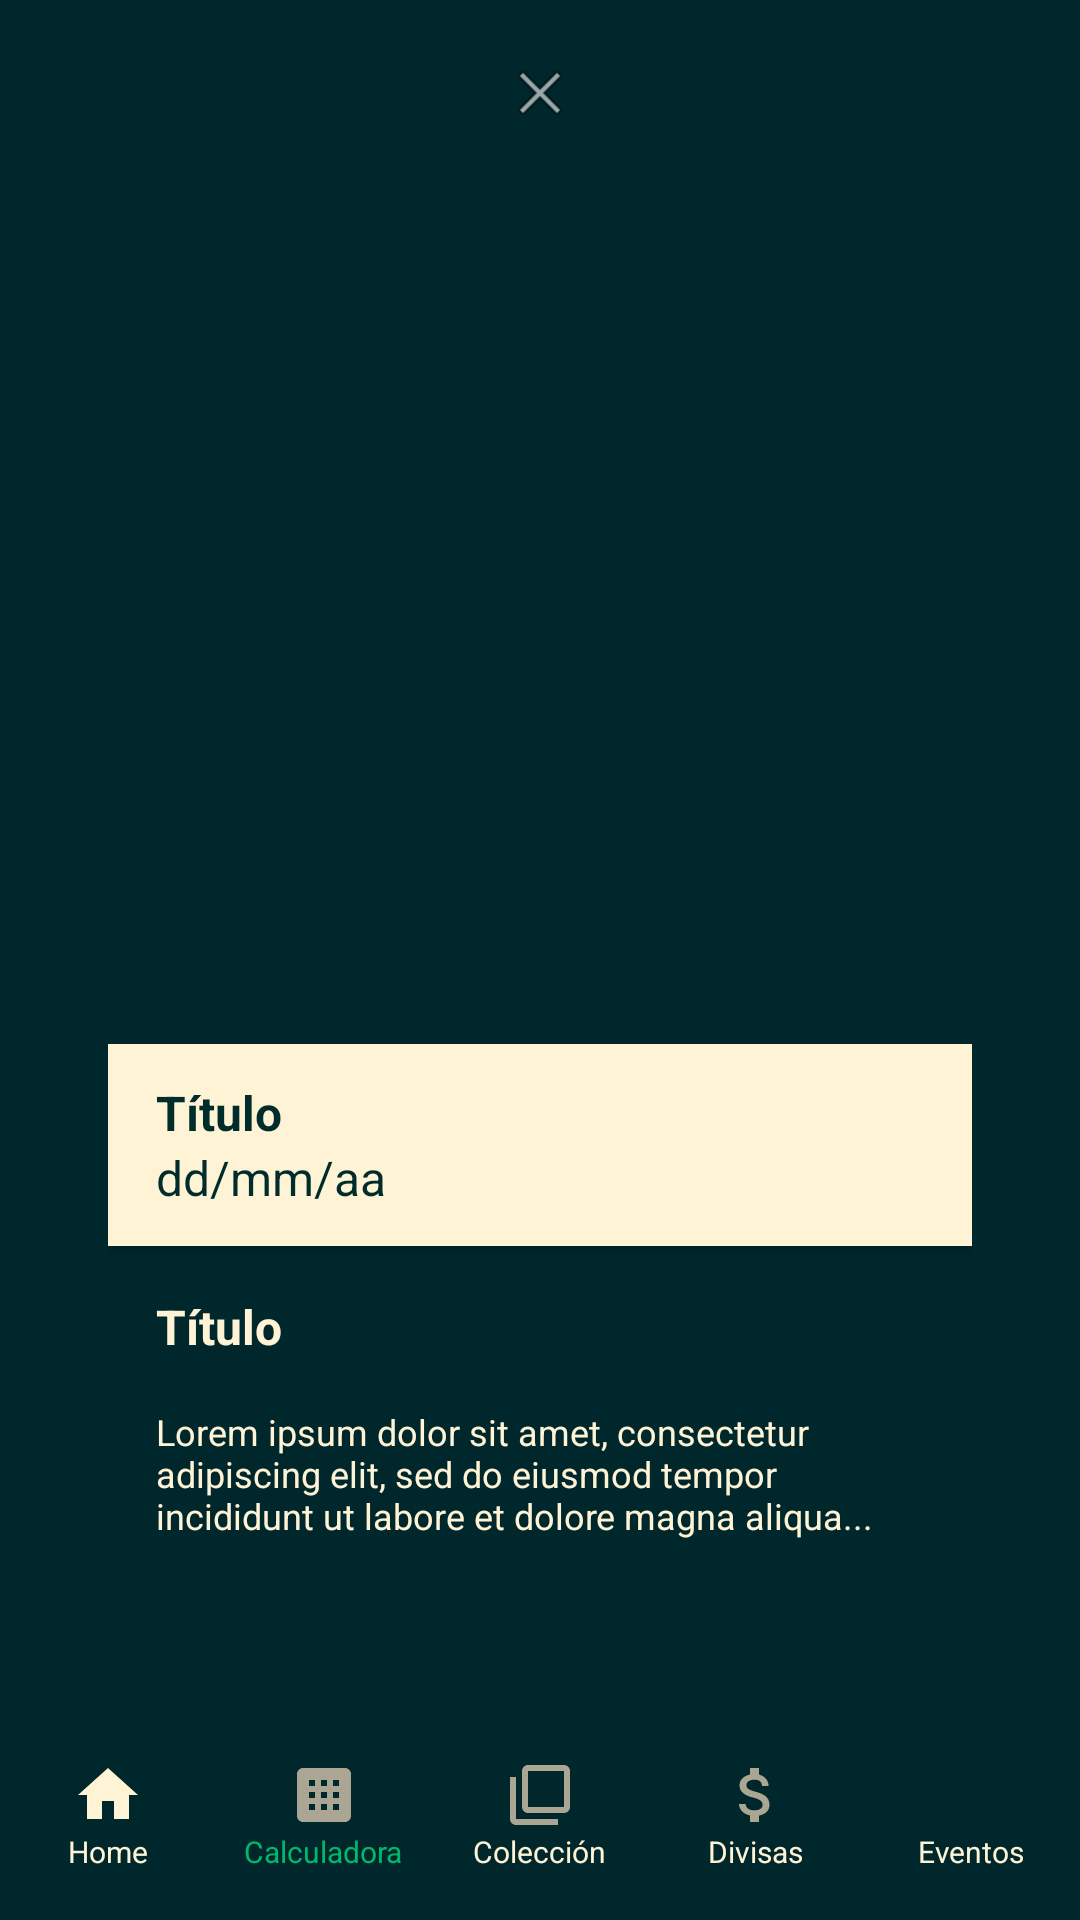

Where icons sit on this 1080px x 1920px app screen, as (x1, y1, x2, y2):
Volver: (520, 73, 560, 113)
